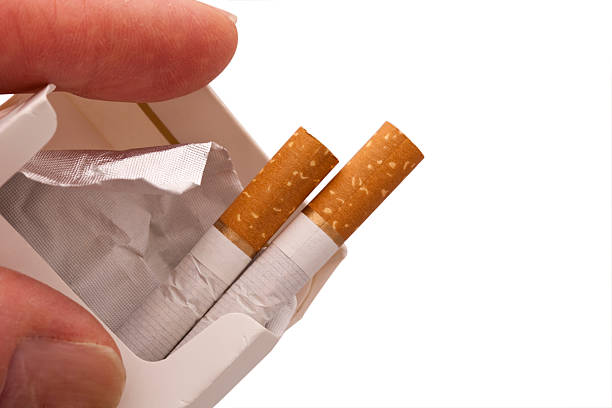cigarette: (0, 83, 350, 408), (168, 117, 425, 357), (115, 125, 341, 363)
